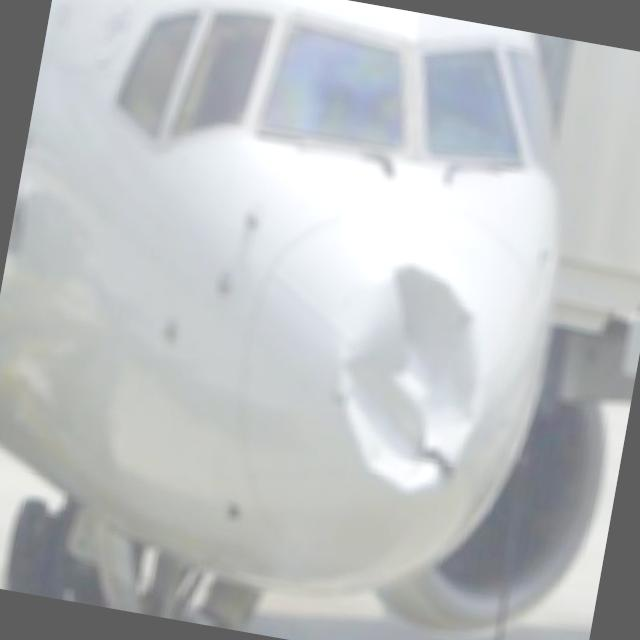dent: (318, 248, 509, 502)
